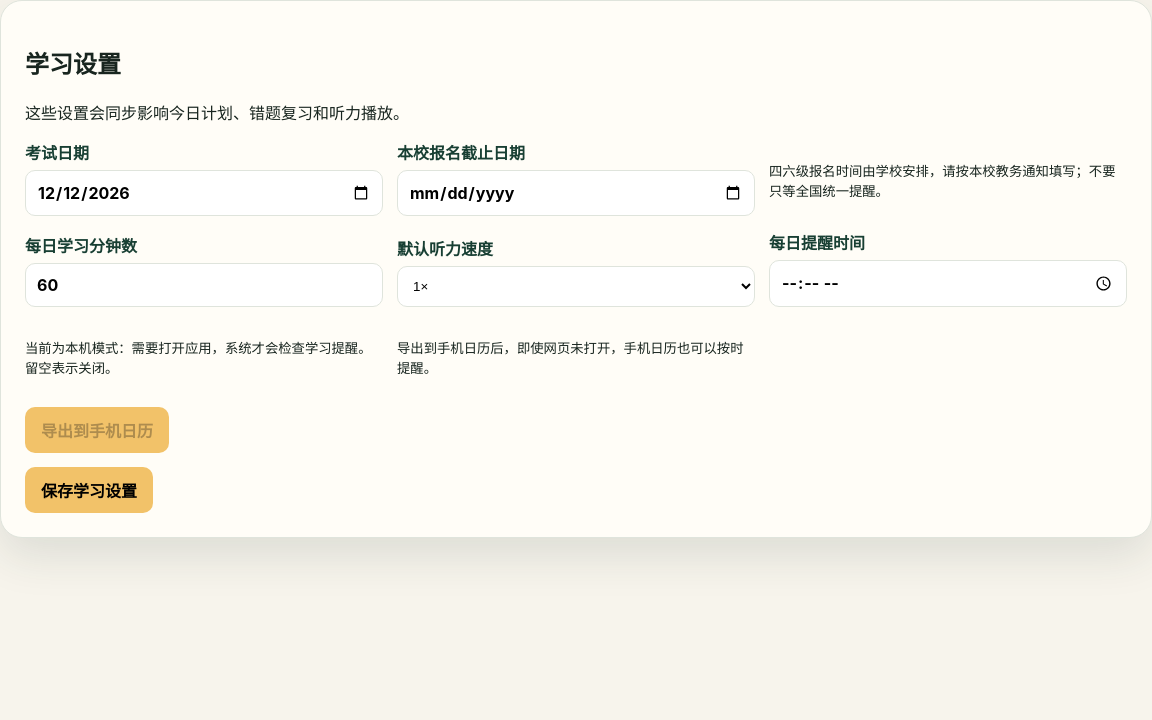
Test: LearningSettings › rejects a daily study time outside the supported range
This screenshot has width=1152, height=720.
Replace the text in the number field labelled "每日学习分钟数" with "10" at (204,285), box [25,263,383,307]
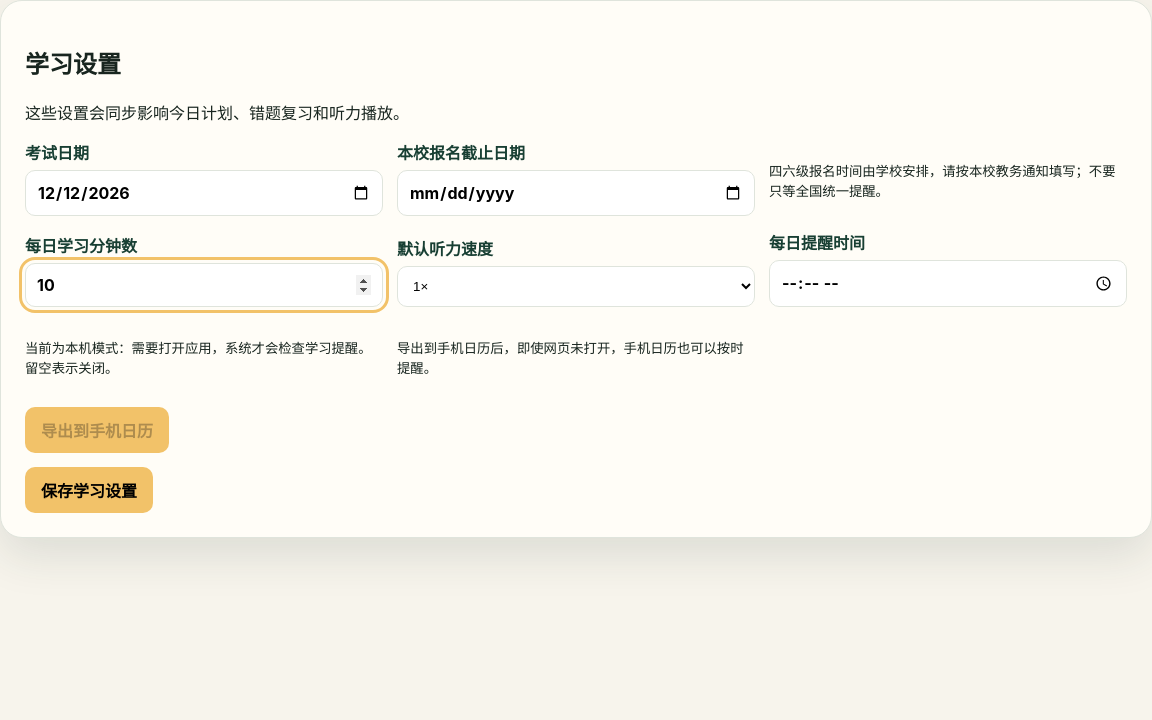
Click the button "保存学习设置".
click(89, 490)  # box [25,467,153,513]
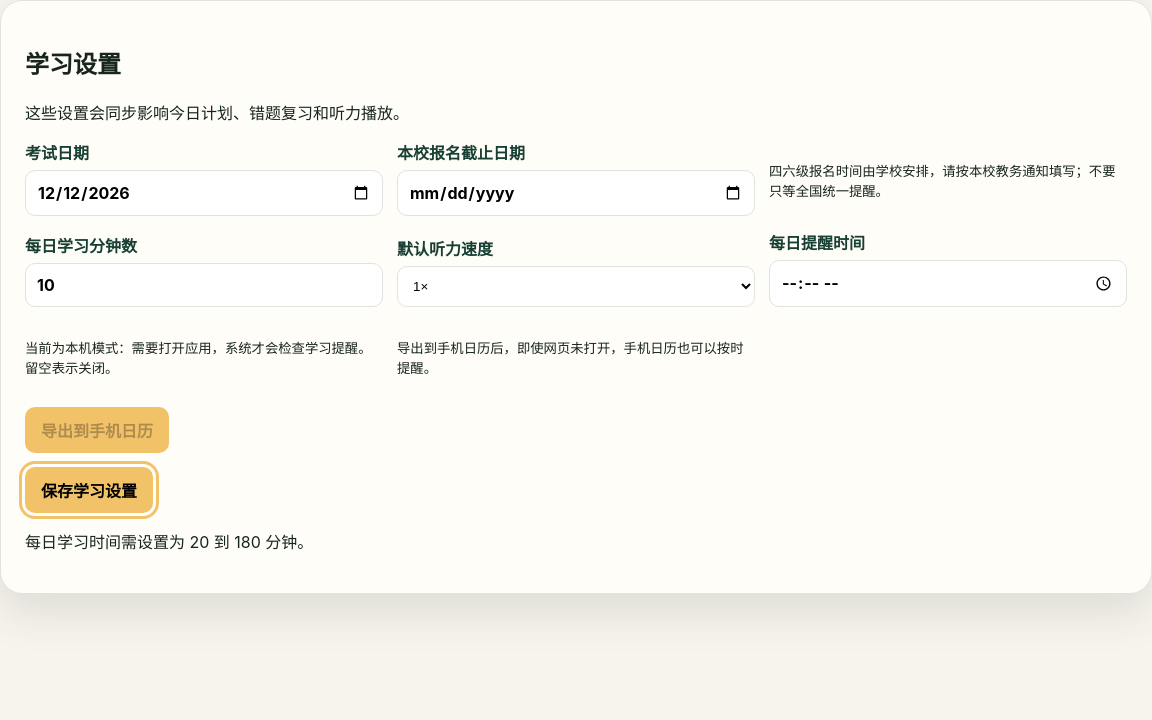
Now the message shows "20 到 180 分钟", box [25,532,313,552]
